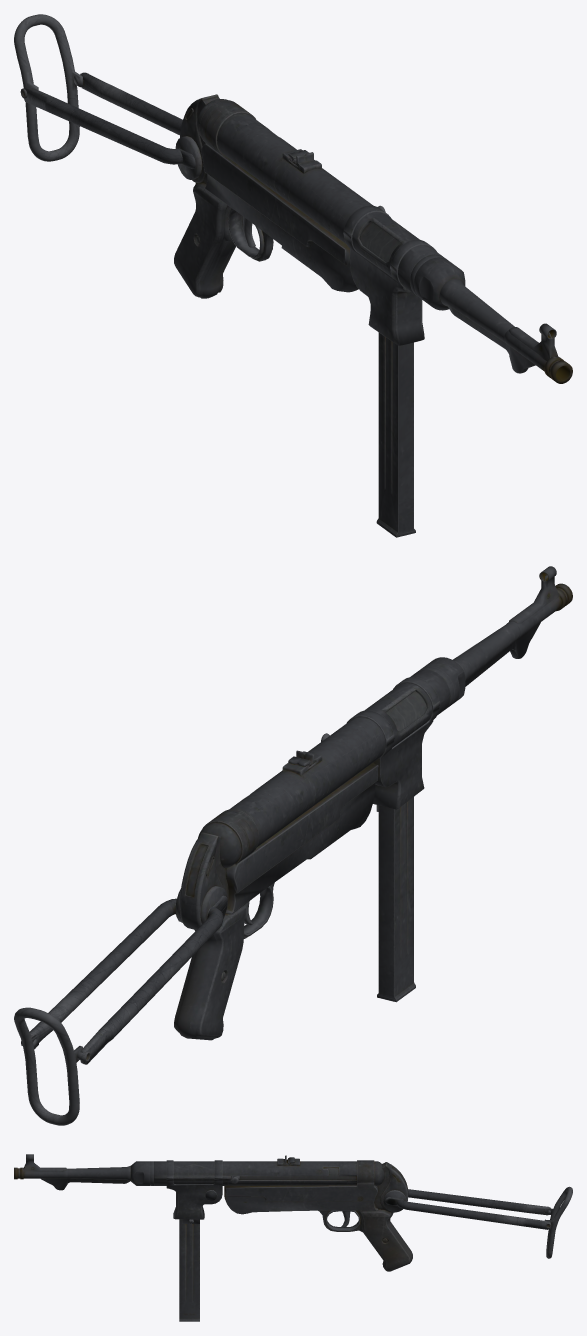
The picture shows the model from 3 angles, top to bottom: view 1: azimuth 30°, elevation 25°; view 2: azimuth 150°, elevation 25°; view 3: azimuth 270°, elevation 25°; orthographic projection. The views are drawn at different scales.
Visible parts, largest first — view 1: Cube.011, Cube.003, Cube.005; view 2: Cube.011, Cube.003, Cube.005; view 3: Cube.011, Cube.003.
Boxes of the visible parts, x1,y1,x2,y2 form: Cube.011: [14, 14, 572, 383]; Cube.003: [376, 332, 415, 537]; Cube.005: [359, 205, 400, 262]; Cube.011: [14, 566, 572, 1125]; Cube.003: [376, 797, 415, 1002]; Cube.005: [321, 691, 426, 741]; Cube.011: [14, 1154, 572, 1271]; Cube.003: [179, 1219, 199, 1321].
Bounding box in the file's own units: 0.1497 × 0.6498 × 2.
Materials: 1 (1 with a texture image).
